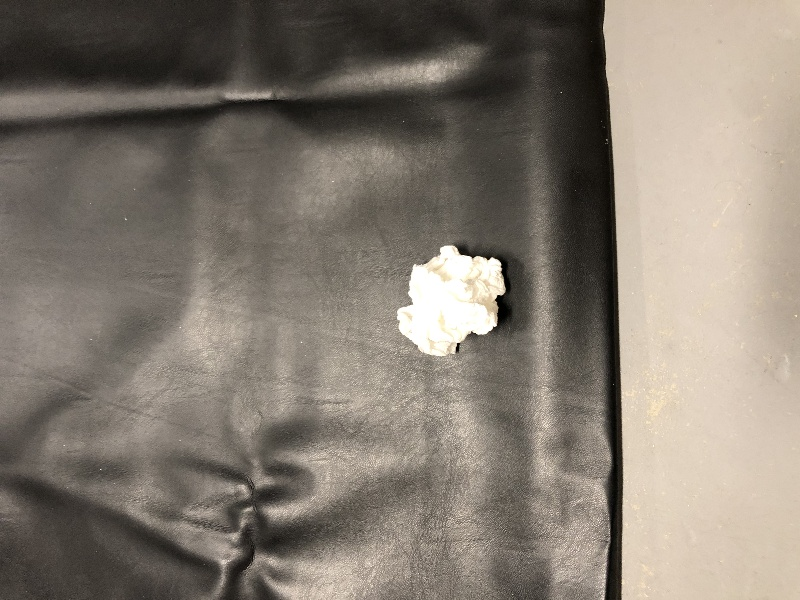paper: (388, 234, 514, 369)
